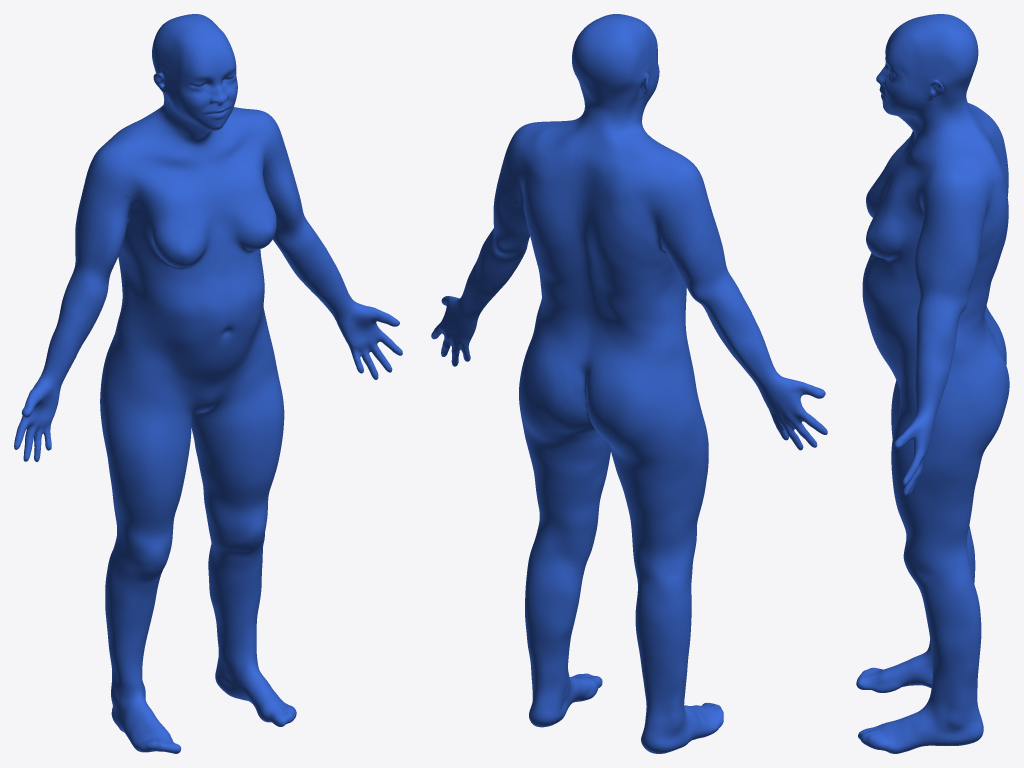
The model's file is VH_F_Skin.glb.
3 renders of one model, left to right at view 1: azimuth 30°, elevation 25°; view 2: azimuth 150°, elevation 25°; view 3: azimuth 270°, elevation 25°, orthographic.
Parts seen in each view (by area): view 1: VH_F_skin; view 2: VH_F_skin; view 3: VH_F_skin.
Boxes of the visible parts, x1,y1,x2,y2 form: VH_F_skin: (14, 14, 402, 753); VH_F_skin: (431, 14, 827, 753); VH_F_skin: (856, 14, 1009, 753).
Bounding box in the file's own units: 0.9674 × 1.67 × 0.3293.
